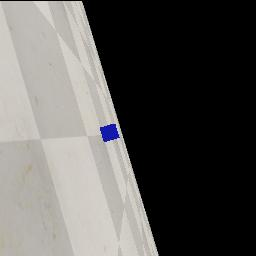box: (100, 124, 120, 142)
